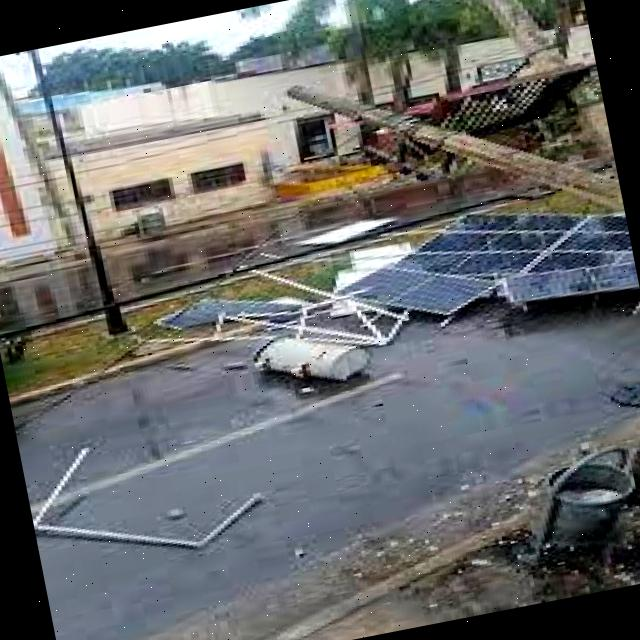Broken Pole: (288, 86, 624, 212)
